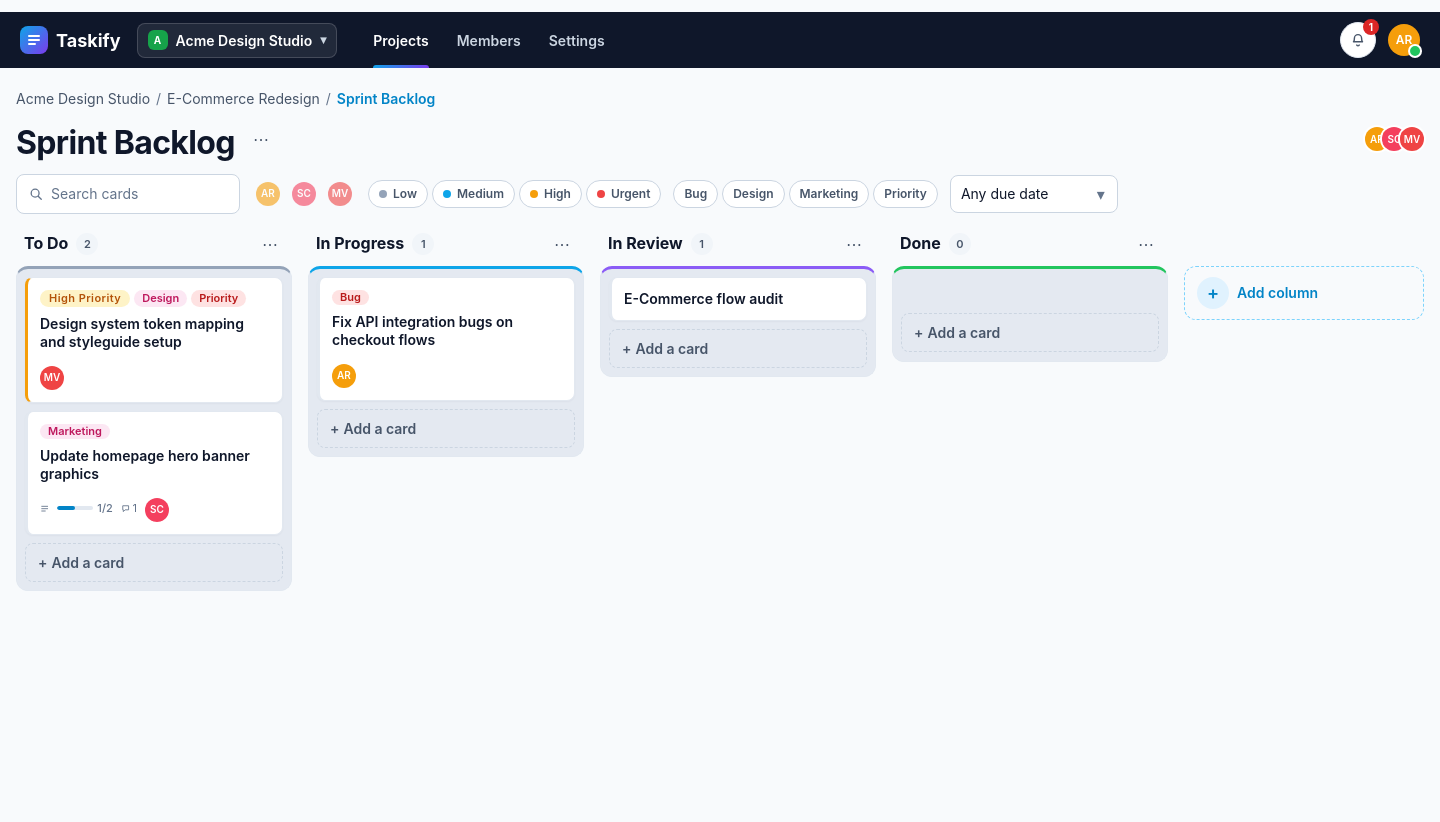
it: BoardPage › adds a column with the name the user typed
The width and height of the screenshot is (1440, 822).
Check: the element "To Do" is shown, box [16,230,292,591]
Check: the number of elements with test id "kanban-column" is 4, box [16,230,292,591]; [308,230,584,457]; [600,230,876,377]; [892,230,1168,362]
Click the button "+ Add column" at (1304,293), box [1184,266,1424,320]
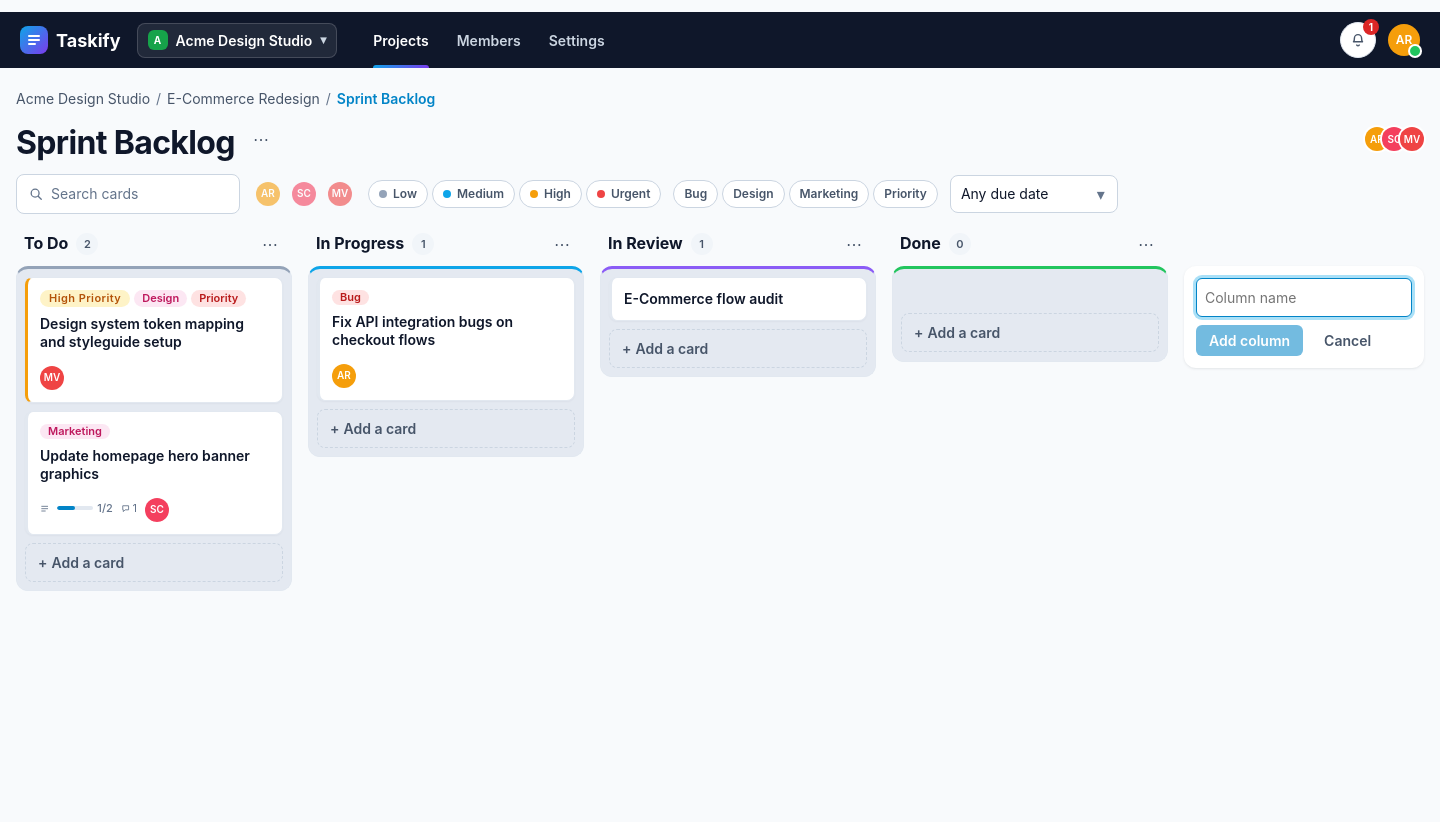
Type "Blocked" into the field named "new column name" at (1304,297), box [1196,278,1412,317]
Then press Enter
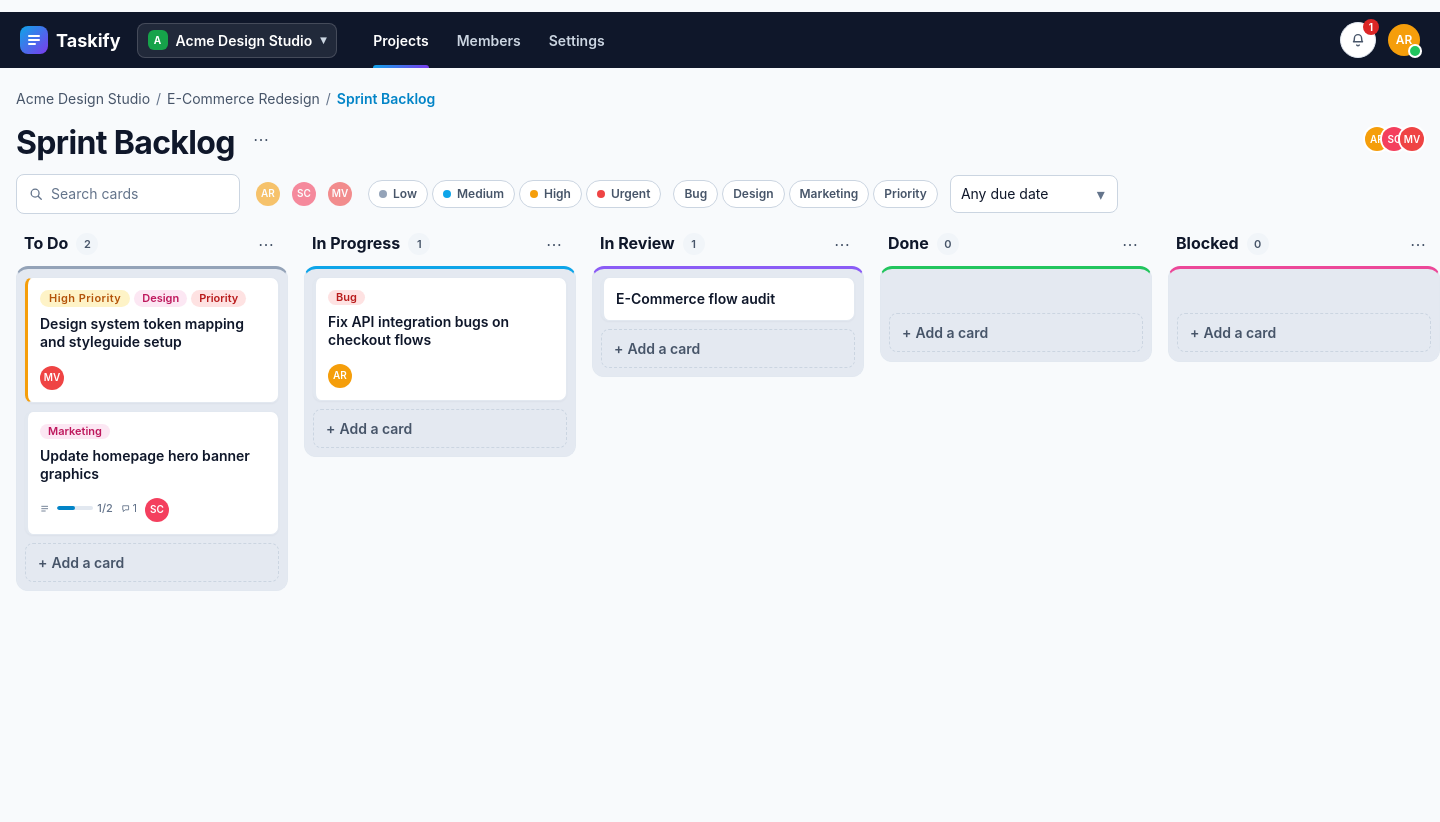
Check: the number of elements with test id "kanban-column" is 5, box [16,230,288,591]; [304,230,576,457]; [592,230,864,377]; [880,230,1152,362]; [1168,230,1439,362]
Check: the element "Blocked" is shown, box [1168,230,1439,362]
